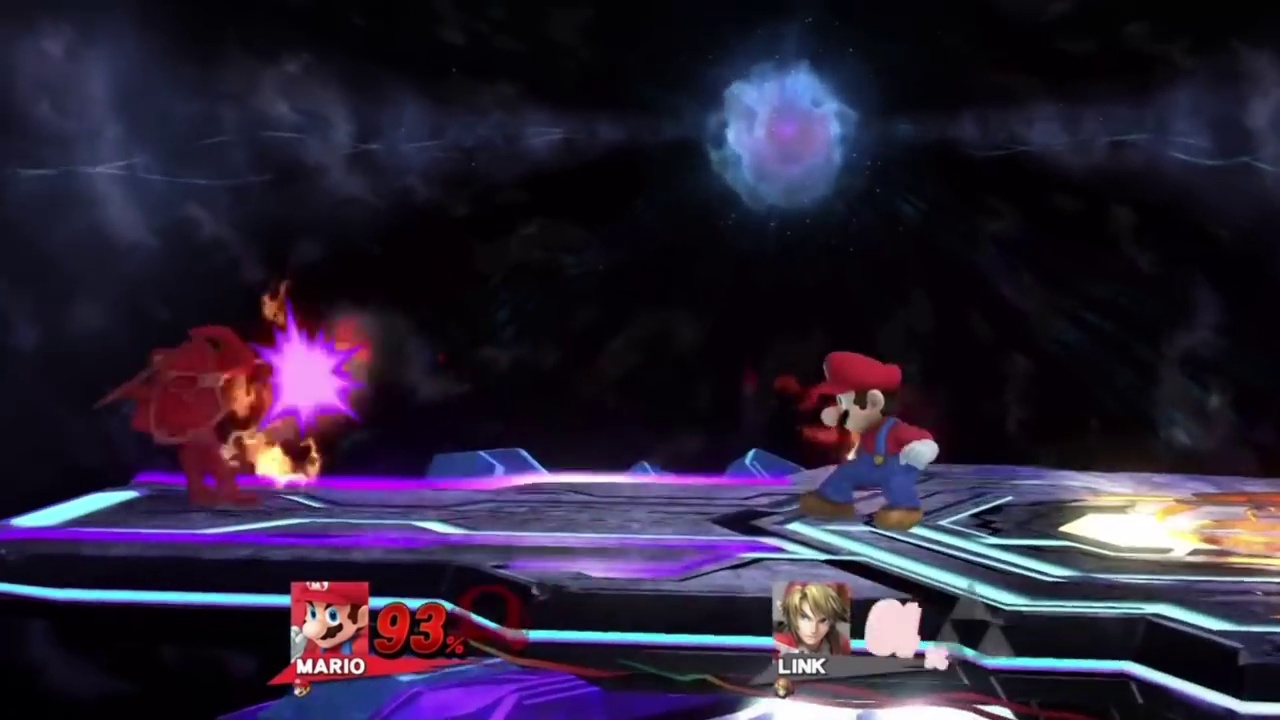Mario: (794, 353, 938, 529)
